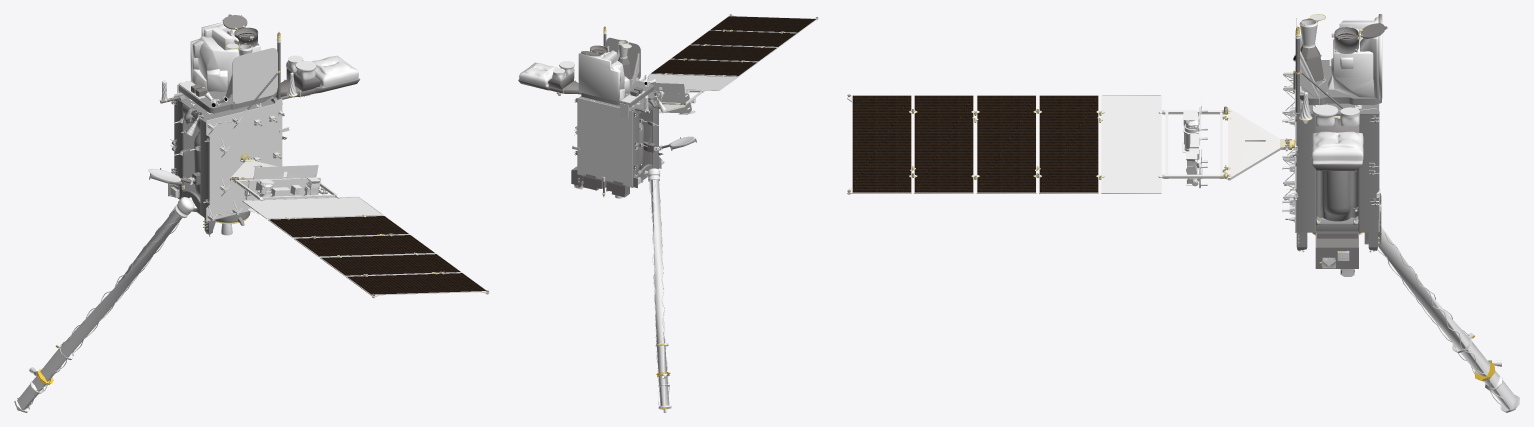
File: goes-r.glb
The picture shows the model from 3 angles, left to right: view 1: azimuth 30°, elevation 25°; view 2: azimuth 150°, elevation 25°; view 3: azimuth 270°, elevation 25°; orthographic projection. The views are drawn at different scales.
Parts seen in each view (by area): view 1: BUS, arrayPanels, arrayGimble, boomHousing, boomEquip, boomWires; view 2: BUS, arrayPanels, arrayGimble, boomHousing, boomEquip, GOES_R_2011_exp:Radiator.001, boomWires; view 3: arrayPanels, BUS, arrayGimble, boomHousing, boomEquip, boomWires.
Part boxes in pixels (left/top/right/bottom): BUS: left=159, top=14, right=360, bottom=236; arrayPanels: left=269, top=216, right=486, bottom=294; arrayGimble: left=14, top=43, right=489, bottom=412; boomHousing: left=17, top=197, right=197, bottom=410; boomEquip: left=29, top=81, right=272, bottom=384; boomWires: left=23, top=208, right=179, bottom=410; BUS: left=518, top=26, right=705, bottom=197; arrayPanels: left=652, top=16, right=815, bottom=75; arrayGimble: left=577, top=15, right=818, bottom=412; boomHousing: left=644, top=168, right=669, bottom=406; boomEquip: left=581, top=74, right=696, bottom=408; GOES_R_2011_exp:Radiator.001: left=606, top=37, right=640, bottom=85; boomWires: left=583, top=97, right=669, bottom=406; arrayPanels: left=852, top=95, right=1098, bottom=192; BUS: left=1158, top=14, right=1387, bottom=268; arrayGimble: left=847, top=14, right=1519, bottom=412; boomHousing: left=1378, top=227, right=1516, bottom=409; boomEquip: left=1291, top=53, right=1501, bottom=381; boomWires: left=1319, top=79, right=1509, bottom=410.
Size of the model in its own units: 8.25 by 12.1 by 15.26.
Materials: 17 (2 with a texture image).
